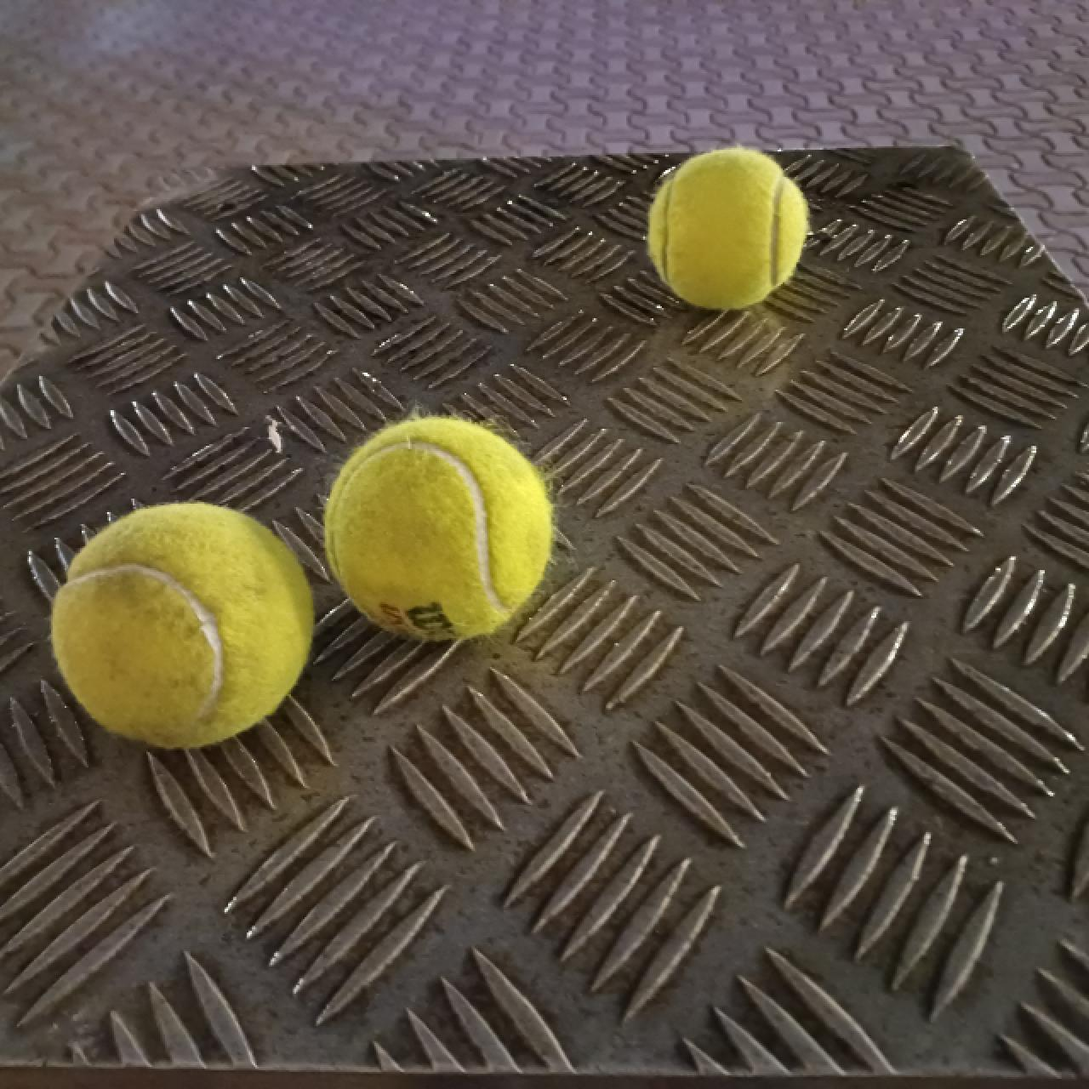tennis-ball: (50, 501, 317, 750), (320, 413, 555, 644), (647, 145, 809, 314)
